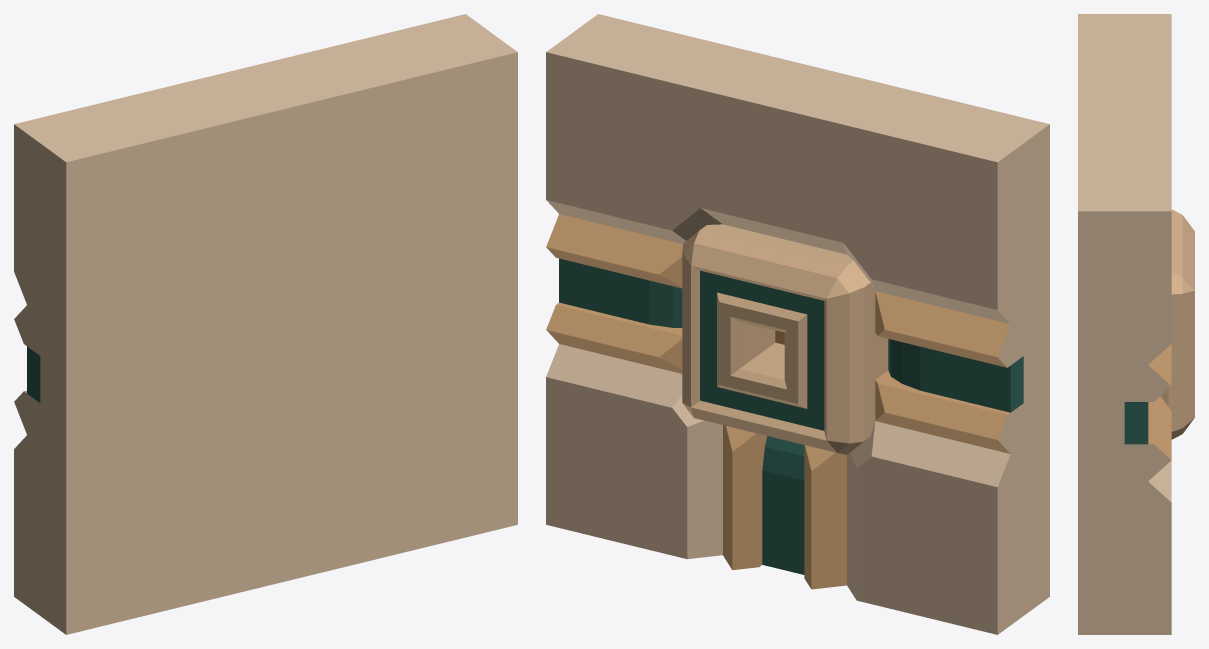
The model's file is Puzzle_Wall_Conduit_Keyhole_TJoint.fbx.
3 renders of one model, left to right at view 1: azimuth 30°, elevation 25°; view 2: azimuth 150°, elevation 25°; view 3: azimuth 270°, elevation 25°, orthographic. The views are drawn at different scales.
Visible parts, largest first — view 1: Sandstone_Trim.Sandstone_Trim.Sandstone_Trim.Sandstone_Trim.; view 2: Sandstone_Trim.Sandstone_Trim.Sandstone_Trim.Sandstone_Trim., Sandstone_5.Sandstone_5.Sandstone_5.Sandstone_5.Sandstone_5., object5, object4, object1, object2, object6; view 3: Sandstone_Trim.Sandstone_Trim.Sandstone_Trim.Sandstone_Trim., object5, Sandstone_5.Sandstone_5.Sandstone_5.Sandstone_5.Sandstone_5., object6.
Part boxes in pixels (x1=…): Sandstone_Trim.Sandstone_Trim.Sandstone_Trim.Sandstone_Trim.: x1=14, y1=14, x2=517, y2=634; Sandstone_Trim.Sandstone_Trim.Sandstone_Trim.Sandstone_Trim.: x1=546, y1=14, x2=1049, y2=634; Sandstone_5.Sandstone_5.Sandstone_5.Sandstone_5.Sandstone_5.: x1=546, y1=214, x2=1010, y2=589; object5: x1=682, y1=224, x2=888, y2=454; object4: x1=700, y1=270, x2=824, y2=430; object1: x1=888, y1=339, x2=1023, y2=412; object2: x1=762, y1=436, x2=804, y2=574; object6: x1=559, y1=258, x2=682, y2=327; Sandstone_Trim.Sandstone_Trim.Sandstone_Trim.Sandstone_Trim.: x1=1078, y1=14, x2=1171, y2=634; object5: x1=1160, y1=209, x2=1194, y2=439; Sandstone_5.Sandstone_5.Sandstone_5.Sandstone_5.Sandstone_5.: x1=1148, y1=344, x2=1171, y2=459; object6: x1=1124, y1=402, x2=1148, y2=444.
Bounding box in the file's own units: 1 × 1 × 0.25.
